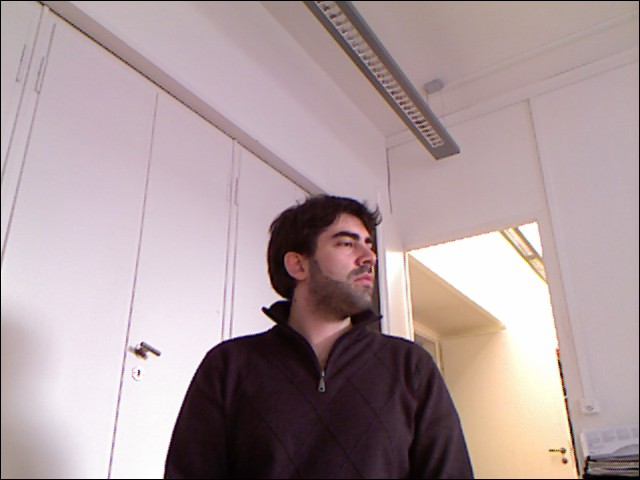deflection: (206, 206, 431, 475)
